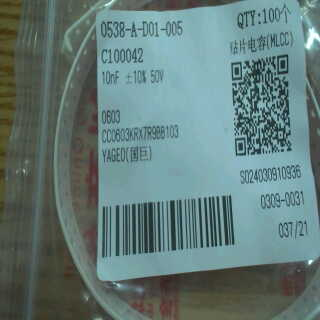10nF: (99, 67, 123, 89)
